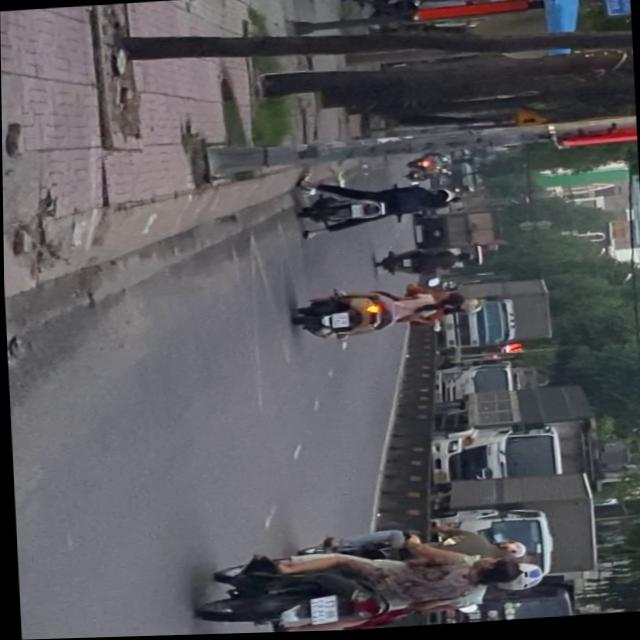helmet: (497, 564, 543, 596), (491, 544, 528, 564)
licenseplate: (191, 532, 545, 636)
motorcyclist: (470, 560, 520, 592)
nohelmet: (308, 598, 337, 626)
